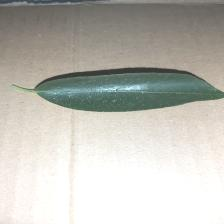healthy: (36, 67, 224, 109)
